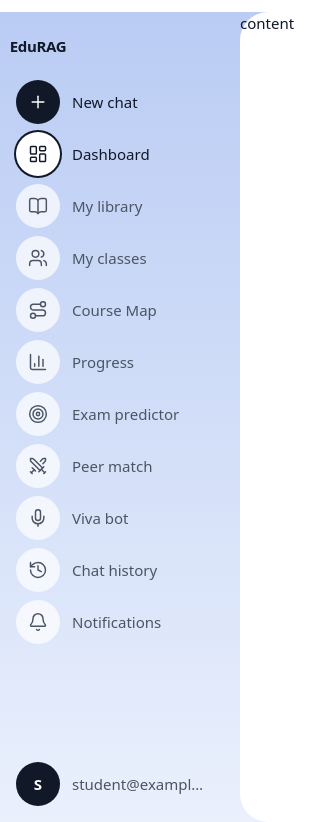
Test: icon rail › opens the account menu with the email, Settings and Sign out
Click the button with aria-label "Account".
click(120, 784)  # box [16,762,224,806]
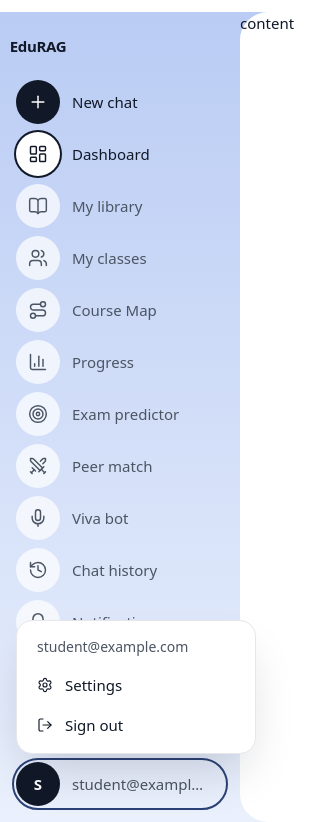
Check: the 1st text "student@example.com" is shown, box [37,637,188,656]
Check: the menu item "Sign out" is shown, box [25,705,247,745]
